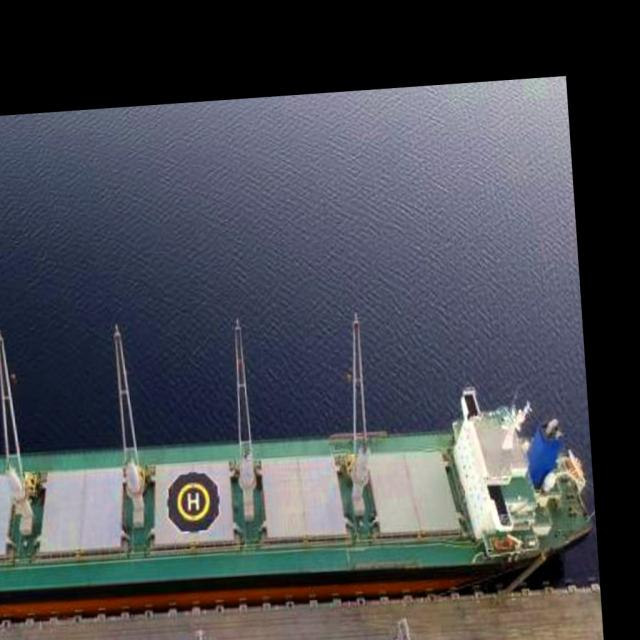helipad: (173, 480, 210, 522)
